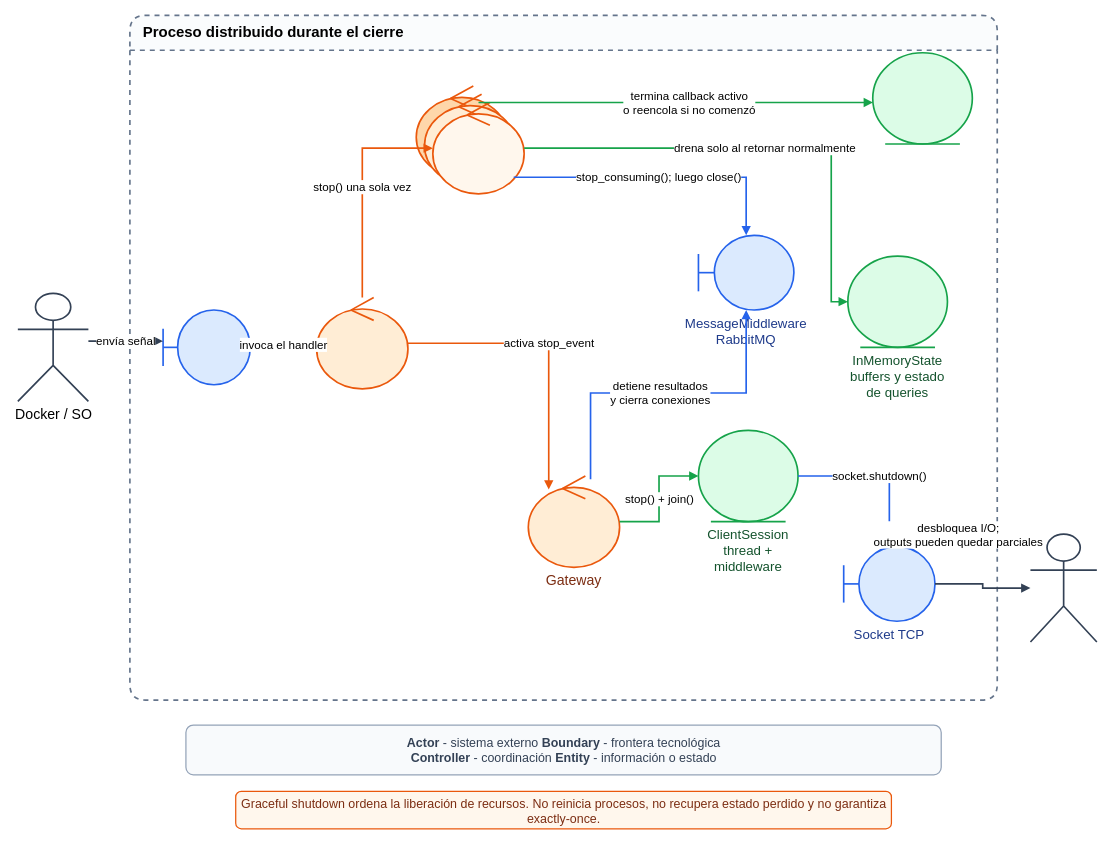
The diagram is 1111 pixels wide and 843 high, and some of its shapes have lost their labels. The shapes that lost their labels are listed below. From the top down, each one's box as (x1, y1, x2, y2) in pixels, then its label:
(872, 51, 973, 144): InFlightDelivery callback - ACK / NACK
(432, 101, 525, 194): WorkerController ×N
(162, 309, 251, 385): Boundary de señal SIGTERM / SIGINT
(315, 296, 408, 389): shutdown_signals
(1029, 533, 1097, 642): Cliente
